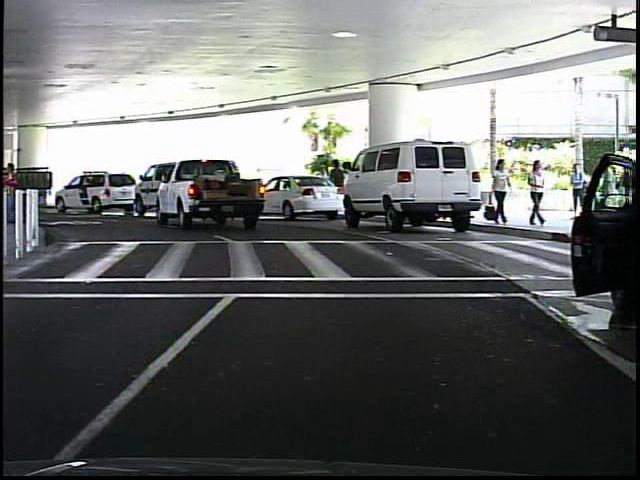person: (521, 156, 549, 229), (489, 156, 509, 227), (328, 154, 350, 214), (568, 159, 587, 201)
